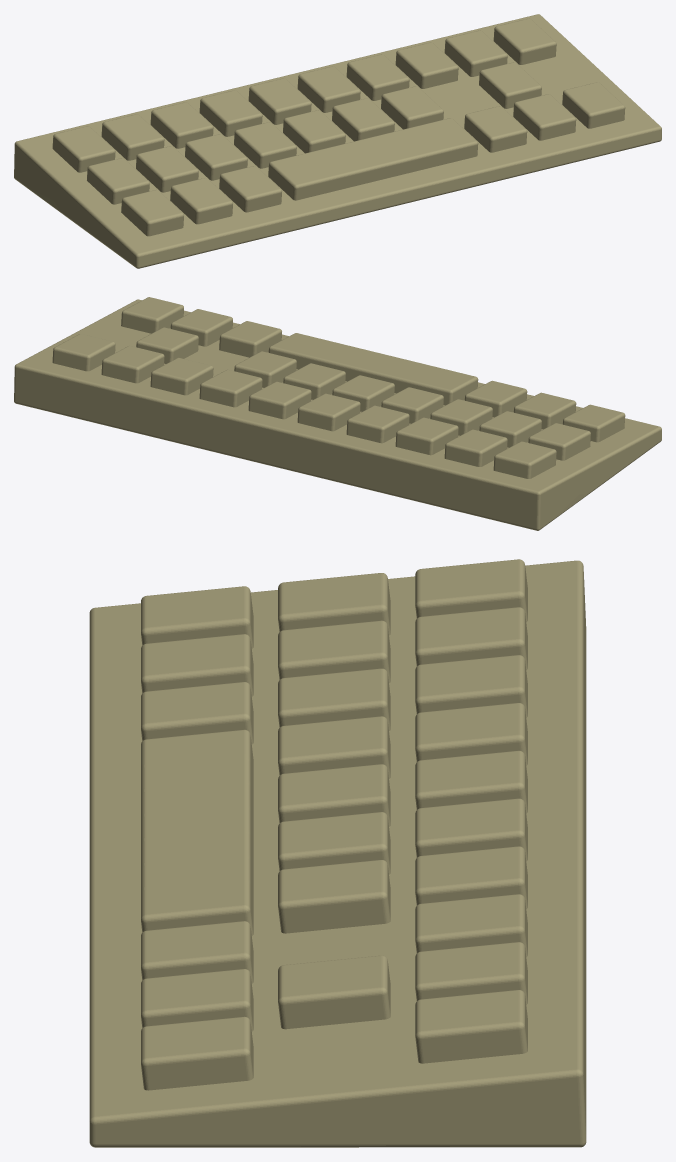
File: Keyboard.fbx
3 renders of one model, top to bottom at view 1: azimuth 30°, elevation 25°; view 2: azimuth 150°, elevation 25°; view 3: azimuth 270°, elevation 25°, orthographic. The views are drawn at different scales.
Visible parts, largest first — view 1: Keyboard; view 2: Keyboard; view 3: Keyboard.
Part boxes in pixels (x1=…): Keyboard: x1=14, y1=14, x2=661, y2=268; Keyboard: x1=14, y1=297, x2=661, y2=530; Keyboard: x1=89, y1=559, x2=586, y2=1147.
Size of the model in its own units: 1100 by 102 by 450.
